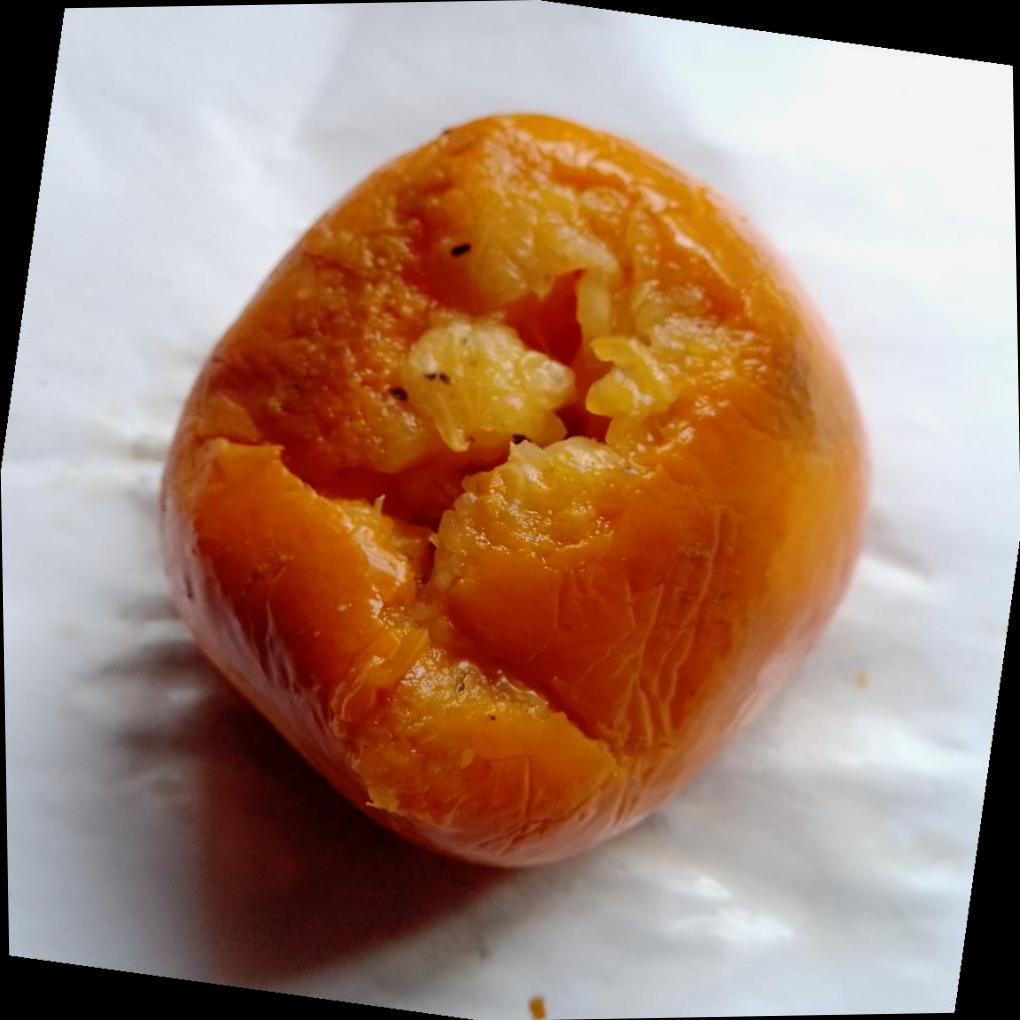FreshOrange: (152, 109, 870, 871)
